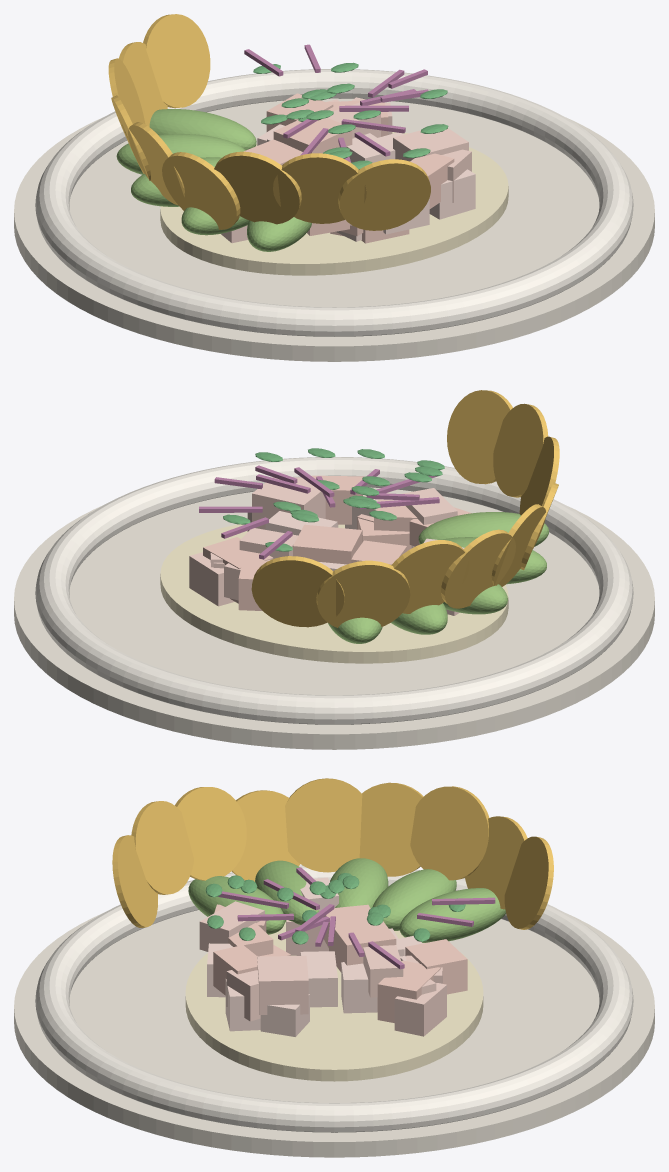
File: ceviche-peruano-v85.glb
3 renders of one model, top to bottom at view 1: azimuth 30°, elevation 25°; view 2: azimuth 150°, elevation 25°; view 3: azimuth 270°, elevation 25°, orthographic.
Visible parts, largest first — view 1: Plato, Borde, LecheTigre, Chip8, Chip0, Chip6, Chip7, Chip5, Aguacate0, Aguacate1, Chip1, Chip4 (+14 smaller); view 2: Plato, Borde, LecheTigre, Chip1, Chip0, Chip8, Chip7, Chip3, Chip2, Tilapia16, Aguacate4, Tilapia9 (+18 smaller); view 3: Plato, Borde, LecheTigre, Chip4, Chip2, Chip6, Chip3, Chip7, Chip5, Chip0, Aguacate0, Chip1 (+22 smaller).
Boxes of the visible parts, x1=… form: Plato: x1=14, y1=98, x2=654, y2=361; Borde: x1=35, y1=69, x2=633, y2=336; LecheTigre: x1=160, y1=132, x2=508, y2=275; Chip8: x1=338, y1=159, x2=430, y2=230; Chip0: x1=143, y1=14, x2=210, y2=108; Chip6: x1=214, y1=151, x2=301, y2=224; Chip7: x1=273, y1=153, x2=366, y2=223; Chip5: x1=162, y1=152, x2=240, y2=229; Aguacate0: x1=149, y1=109, x2=256, y2=150; Aguacate1: x1=116, y1=134, x2=245, y2=174; Chip1: x1=119, y1=42, x2=167, y2=126; Chip4: x1=128, y1=122, x2=184, y2=205; Plato: x1=14, y1=487, x2=654, y2=749; Borde: x1=35, y1=457, x2=633, y2=724; LecheTigre: x1=160, y1=524, x2=508, y2=663; Chip1: x1=316, y1=560, x2=410, y2=627; Chip0: x1=251, y1=556, x2=344, y2=627; Chip8: x1=447, y1=390, x2=512, y2=484; Chip7: x1=493, y1=403, x2=548, y2=497; Chip3: x1=441, y1=529, x2=515, y2=608; Chip2: x1=391, y1=540, x2=469, y2=613; Tilapia16: x1=293, y1=524, x2=362, y2=564; Aguacate4: x1=418, y1=512, x2=548, y2=546; Tilapia9: x1=252, y1=477, x2=325, y2=529; Plato: x1=14, y1=910, x2=654, y2=1157; Borde: x1=35, y1=865, x2=633, y2=1132; LecheTigre: x1=185, y1=922, x2=483, y2=1081; Chip4: x1=285, y1=778, x2=362, y2=872; Chip2: x1=410, y1=786, x2=489, y2=880; Chip6: x1=175, y1=787, x2=246, y2=880; Chip3: x1=359, y1=782, x2=423, y2=876; Chip7: x1=131, y1=801, x2=193, y2=894; Chip5: x1=231, y1=790, x2=300, y2=881; Chip0: x1=504, y1=836, x2=553, y2=929; Aguacate0: x1=399, y1=888, x2=506, y2=942; Chip1: x1=465, y1=816, x2=527, y2=909.
Size of the model in its own units: 0.3 by 0.0858 by 0.3.
